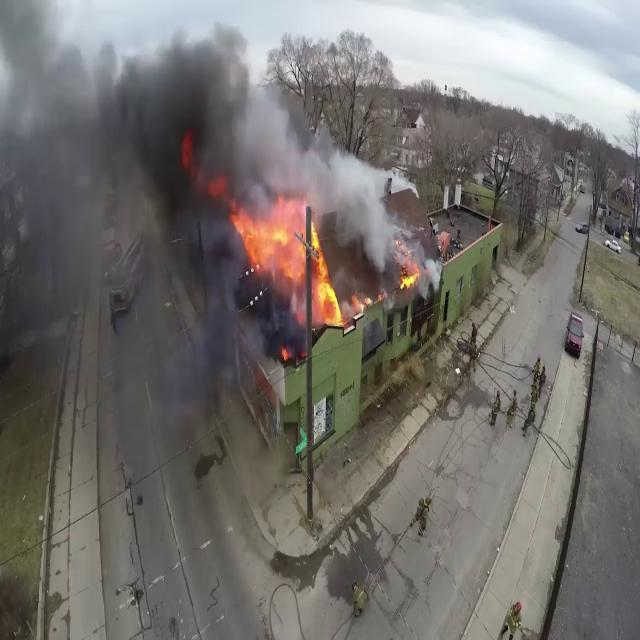Fire: (230, 196, 344, 328), (398, 268, 421, 294)
Smoke: (0, 2, 327, 240), (324, 143, 428, 290)
